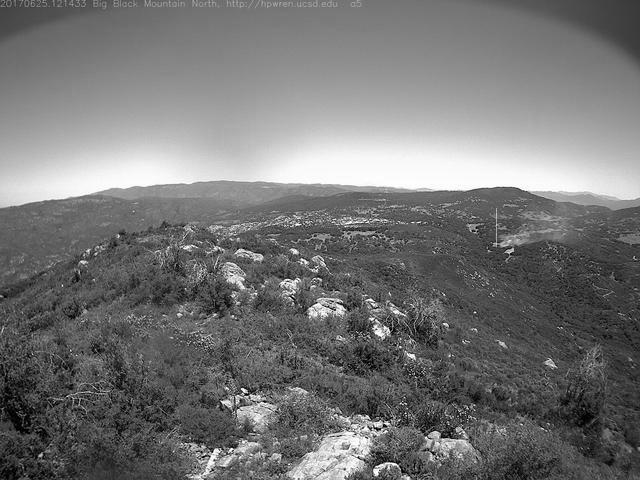smoke: (497, 209, 580, 249)
